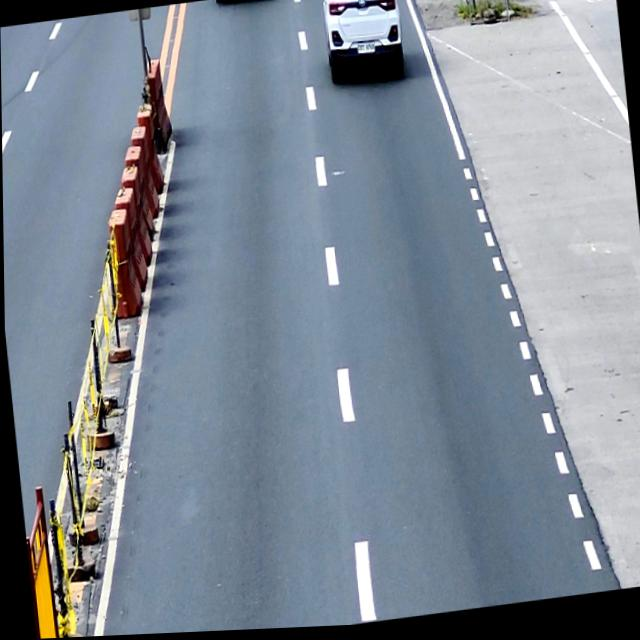Car: (314, 0, 408, 90)
License-Plate: (355, 42, 376, 58)
